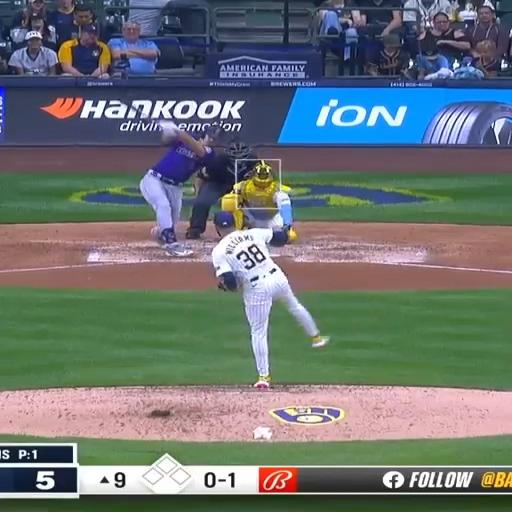bat: (114, 95, 168, 123)
